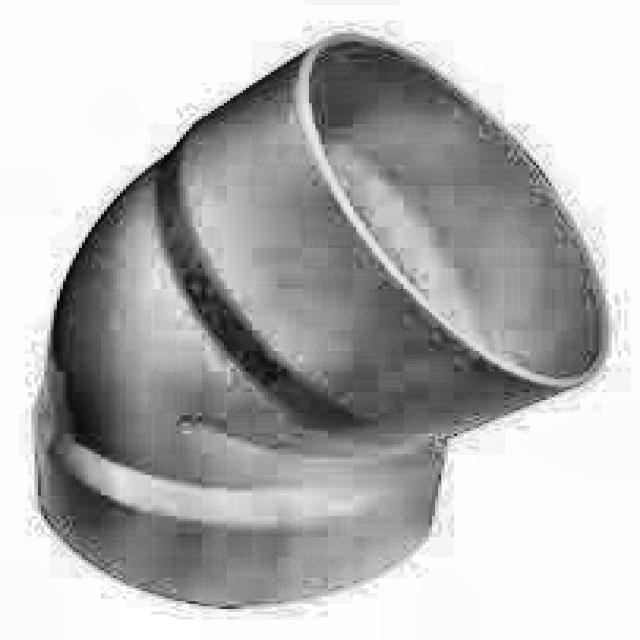ELBOW45: (32, 31, 612, 609)
